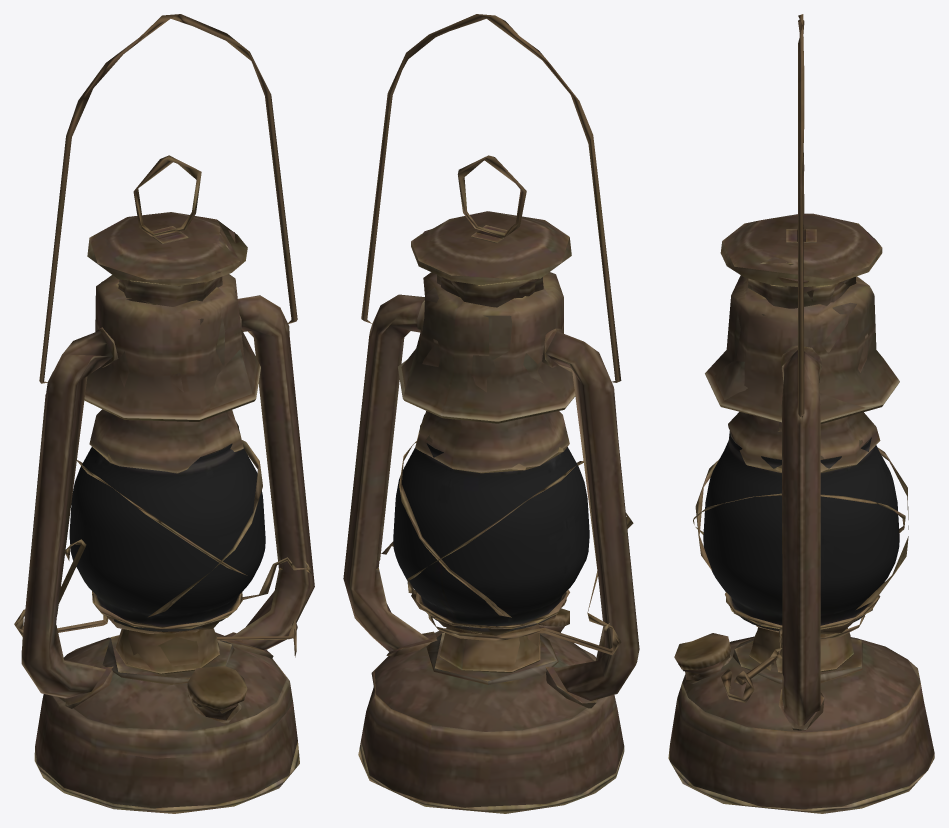
Rendered from den-bao.glb.
3 views of the same model, side by side, from view 1: azimuth 30°, elevation 25°; view 2: azimuth 150°, elevation 25°; view 3: azimuth 270°, elevation 25° (orthographic).
Visible parts, largest first — view 1: Lantern_01, Lantern_01_glass; view 2: Lantern_01, Lantern_01_glass; view 3: Lantern_01, Lantern_01_glass.
Boxes of the visible parts, x1,y1,x2,y2 form: Lantern_01: [14, 14, 314, 813]; Lantern_01_glass: [69, 421, 265, 631]; Lantern_01: [343, 14, 639, 813]; Lantern_01_glass: [393, 421, 589, 631]; Lantern_01: [668, 14, 934, 813]; Lantern_01_glass: [703, 430, 899, 630].
Bounding box in the file's own units: 0.4134 × 0.9991 × 0.3248.
2 materials, 2 textured.
